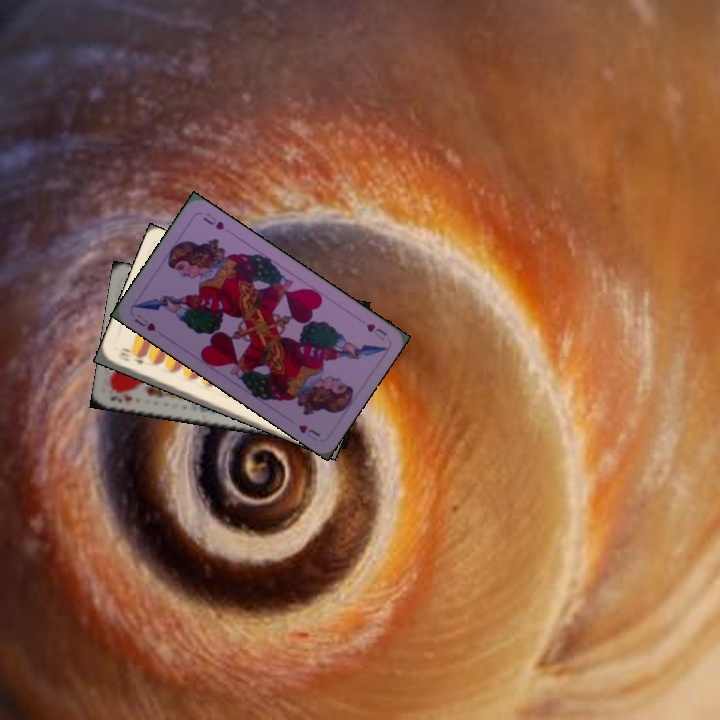E10: (114, 348, 146, 366)
HK: (106, 389, 135, 405)
HU: (130, 310, 158, 334), (362, 319, 390, 343)
